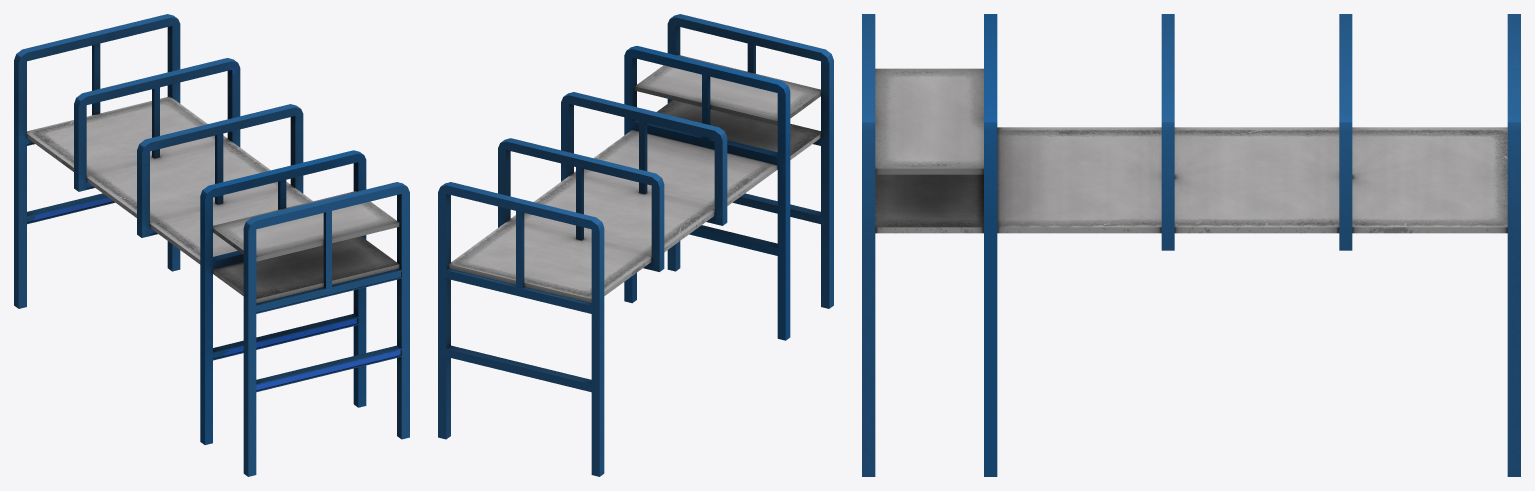
The model's file is Rack Cortados.FBX.
The picture shows the model from 3 angles, left to right: view 1: azimuth 30°, elevation 25°; view 2: azimuth 150°, elevation 25°; view 3: azimuth 270°, elevation 25°; orthographic projection. The views are drawn at different scales.
Parts seen in each view (by area): view 1: BaseAbajo, Pata1, Pata2, Intersecciones, Pata3, BaseArriba; view 2: BaseAbajo, Pata3, Pata2, Intersecciones, Pata1, BaseArriba; view 3: BaseAbajo, BaseArriba, Intersecciones, Pata1, Pata3, Pata2.
Part boxes in pixels (bbox=[...]): BaseAbajo: bbox=[27, 96, 399, 303]; Pata1: bbox=[243, 182, 409, 476]; Pata2: bbox=[200, 150, 366, 444]; Intersecciones: bbox=[74, 58, 303, 237]; Pata3: bbox=[14, 14, 180, 308]; BaseArriba: bbox=[213, 191, 399, 261]; BaseAbajo: bbox=[448, 100, 820, 303]; Pata3: bbox=[438, 182, 604, 476]; Pata2: bbox=[624, 46, 790, 340]; Intersecciones: bbox=[498, 92, 727, 271]; Pata1: bbox=[667, 14, 833, 308]; BaseArriba: bbox=[634, 55, 820, 125]; BaseAbajo: bbox=[875, 127, 1507, 233]; BaseArriba: bbox=[875, 68, 983, 174]; Intersecciones: bbox=[1161, 14, 1352, 250]; Pata1: bbox=[862, 14, 875, 476]; Pata3: bbox=[1507, 14, 1520, 476]; Pata2: bbox=[984, 14, 997, 476].
Bounding box in the file's own units: 79.82 × 120 × 200.
1 material, 1 textured.
